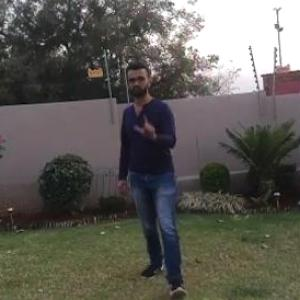land_hand: (134, 103, 161, 142)
